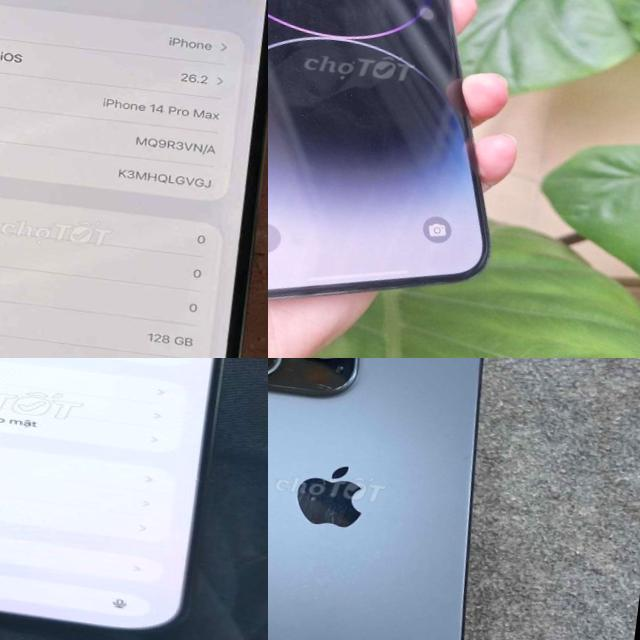gen_14: (268, 0, 562, 339), (0, 0, 268, 358)
gen_15: (268, 358, 528, 640)
gen_16: (0, 358, 219, 628)
physical_damage: (310, 378, 334, 389)
scratch: (320, 505, 338, 525)
